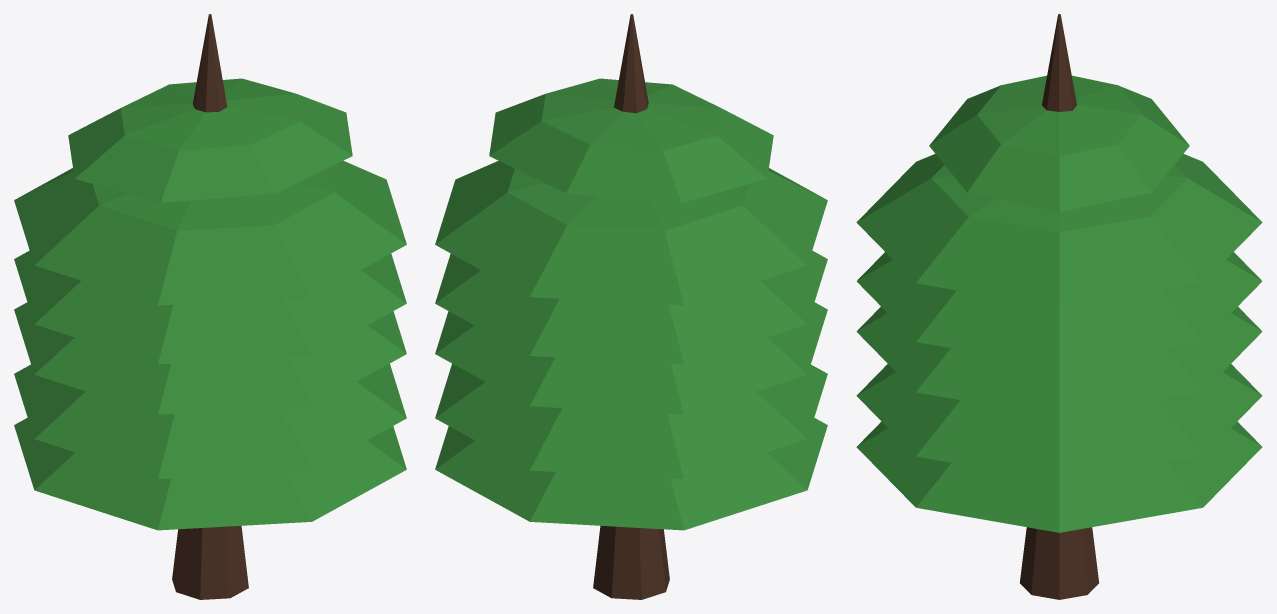
Rendered from tree.fbx.
The picture shows the model from 3 angles, left to right: view 1: azimuth 30°, elevation 25°; view 2: azimuth 150°, elevation 25°; view 3: azimuth 270°, elevation 25°; orthographic projection.
Visible parts, largest first — view 1: Cylinder; view 2: Cylinder; view 3: Cylinder.
Boxes of the visible parts, box(x1,y1,x2,y2) form: Cylinder: box(14, 14, 406, 599); Cylinder: box(435, 14, 827, 599); Cylinder: box(856, 14, 1262, 599).
Bounding box in the file's own units: 2220 × 3427 × 2220.
Materials: 1 (1 with a texture image).
